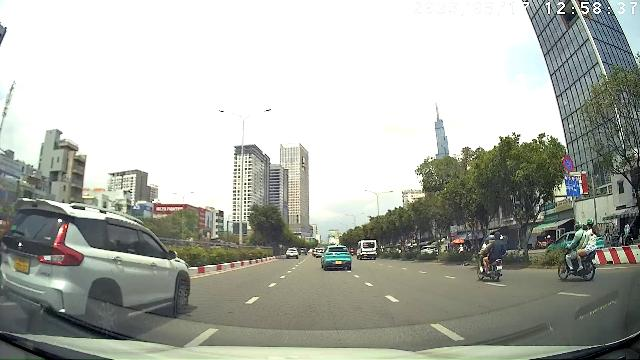130-cam-dung-va-do-xe: (563, 155, 575, 172)
